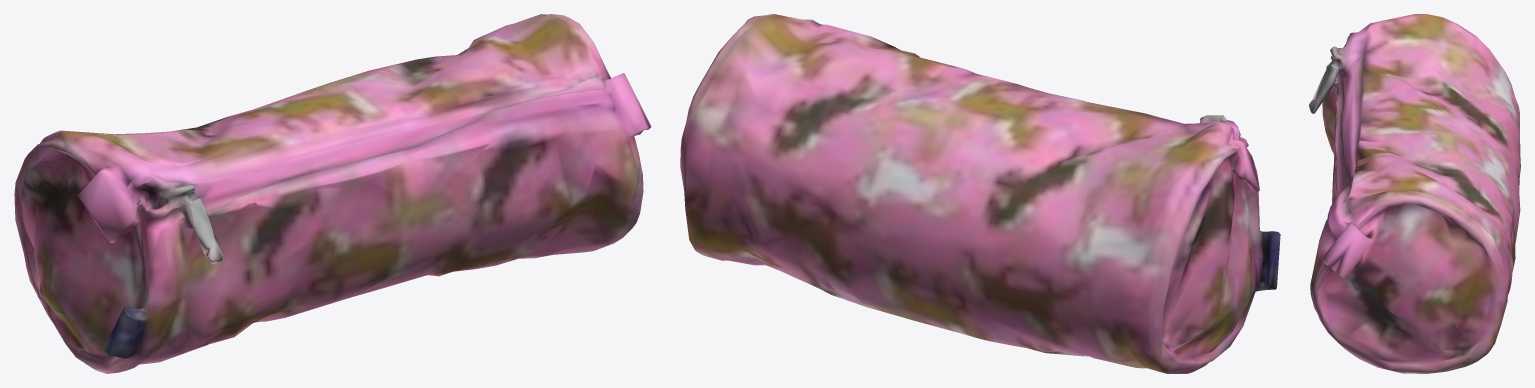
Rendered from Horses_in_Pink_Pencil_Case-medium.glb.
The picture shows the model from 3 angles, left to right: view 1: azimuth 30°, elevation 25°; view 2: azimuth 150°, elevation 25°; view 3: azimuth 270°, elevation 25°; orthographic projection. The views are drawn at different scales.
Parts seen in each view (by area): view 1: Horses_in_Pink_Pencil_Case; view 2: Horses_in_Pink_Pencil_Case; view 3: Horses_in_Pink_Pencil_Case.
Part boxes in pixels (x1,y1,x2,y2): Horses_in_Pink_Pencil_Case: (14, 14, 651, 373); Horses_in_Pink_Pencil_Case: (680, 14, 1280, 373); Horses_in_Pink_Pencil_Case: (1309, 14, 1520, 373).
Bounding box in the file's own units: 0.2139 × 0.0886 × 0.0923.
1 material, 1 textured.
